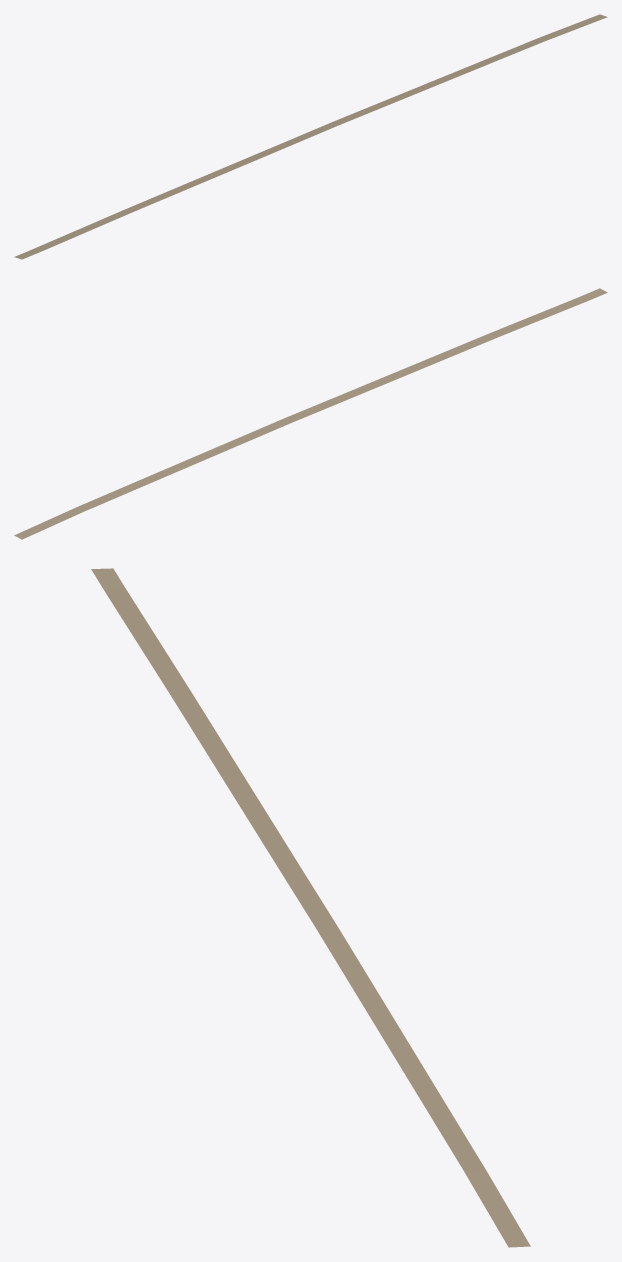
Rendered from farm_-7_4_track.glb.
3 renders of one model, top to bottom at view 1: azimuth 30°, elevation 25°; view 2: azimuth 210°, elevation 25°; view 3: azimuth 270°, elevation 25°, orthographic. The views are drawn at different scales.
Parts seen in each view (by area): view 1: geometry_0; view 2: geometry_0; view 3: geometry_0.
Part boxes in pixels (bbox=[...]): geometry_0: bbox=[14, 14, 607, 259]; geometry_0: bbox=[14, 288, 607, 539]; geometry_0: bbox=[91, 568, 530, 1247].
Size of the model in its own units: 228 by 1.55 by 62.58.
